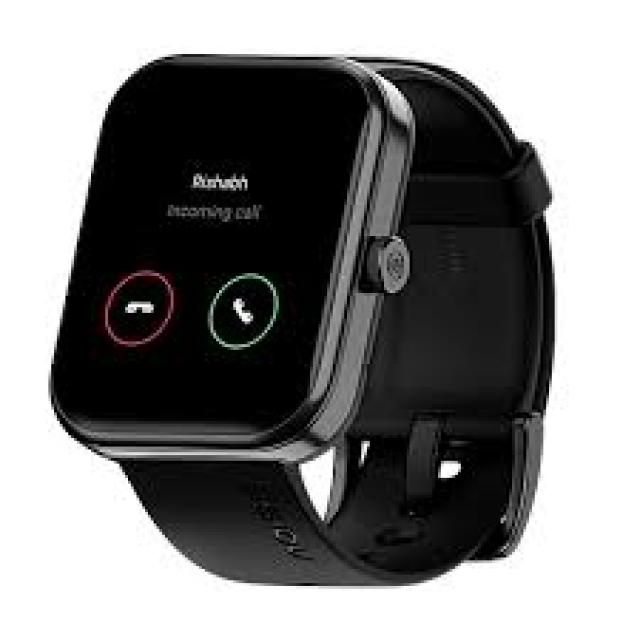objects: (51, 54, 552, 583)
